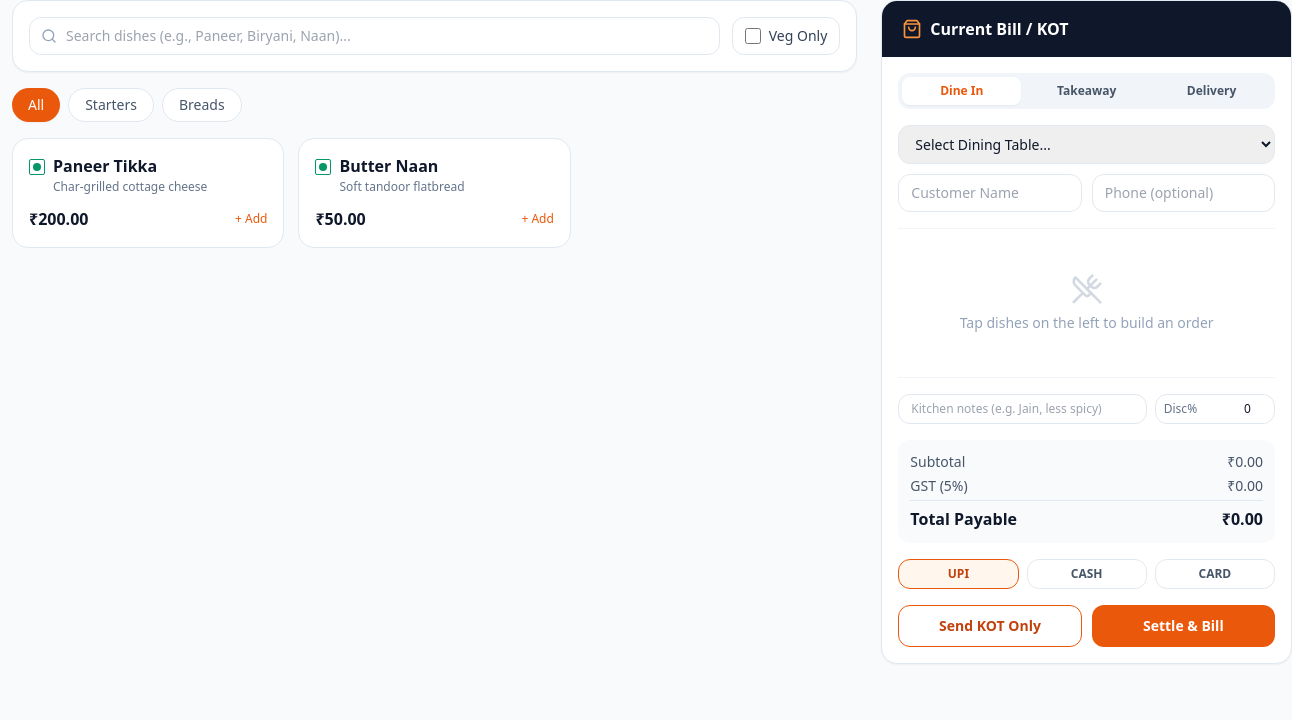
Test: POSView › adds items to cart, calculates 5% GST, and validates Dine-In table selection
Click the heading "Paneer Tikka" at coordinates (105, 166), box [53, 155, 157, 177]
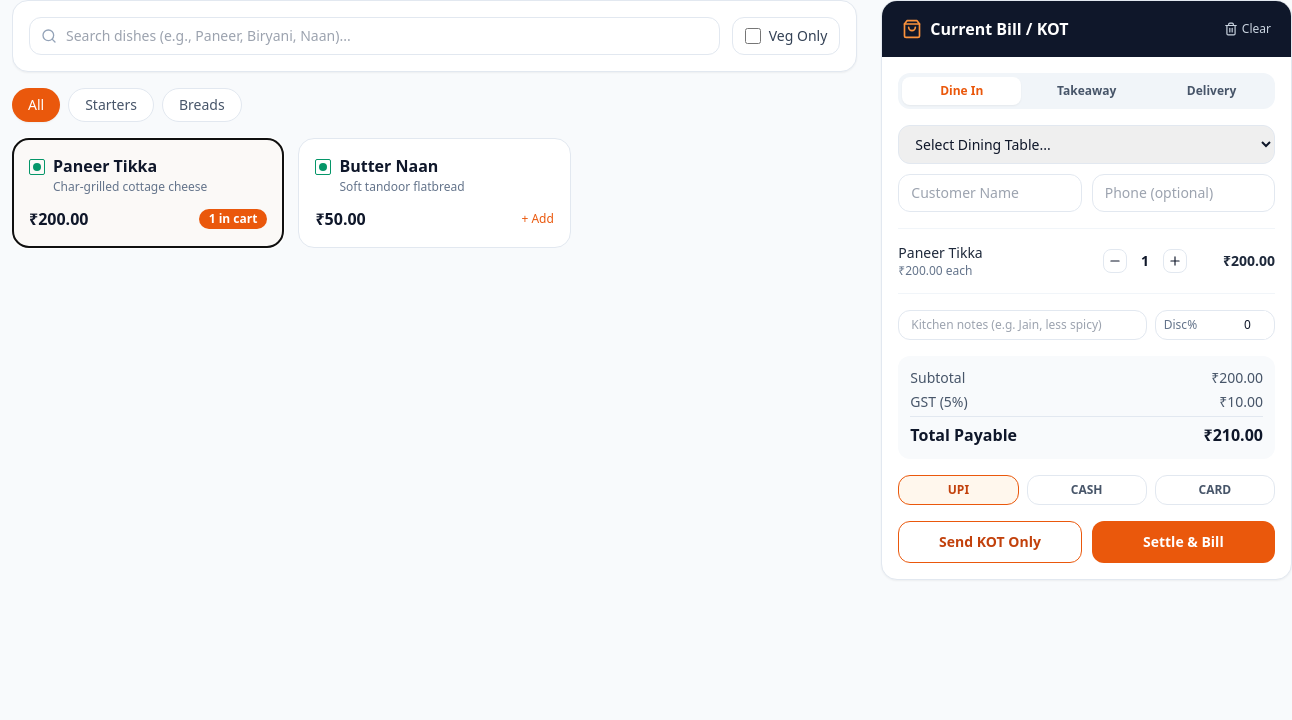
Now the text "1 in cart" is shown, box [199, 209, 267, 229]
Now the text "₹10.00" is shown, box [1219, 392, 1263, 412]
Now the text "₹210.00" is shown, box [1204, 423, 1263, 447]
# Clicking Send KOT without picking a table should show validation error
Click the button "Send KOT Only" at coordinates (990, 542), box [898, 521, 1082, 563]
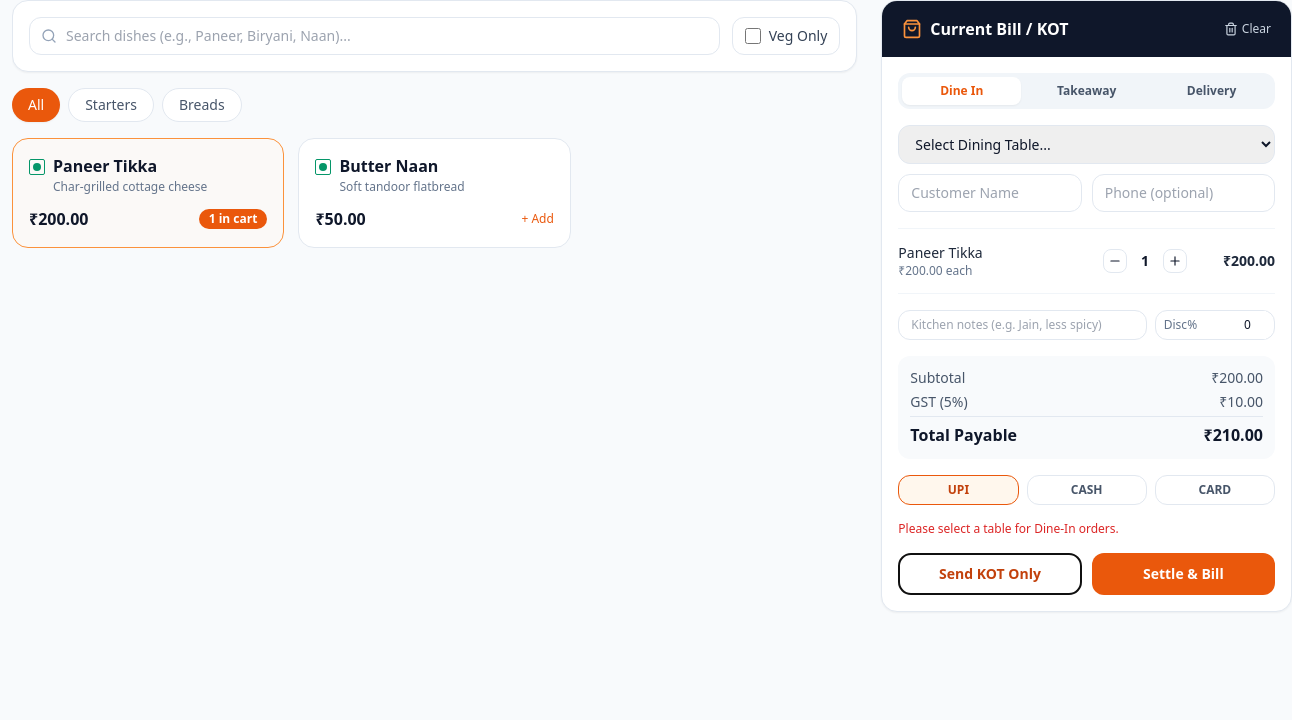
Now the text "Please select a table for Dine-In orders." is shown, box [898, 520, 1119, 537]
